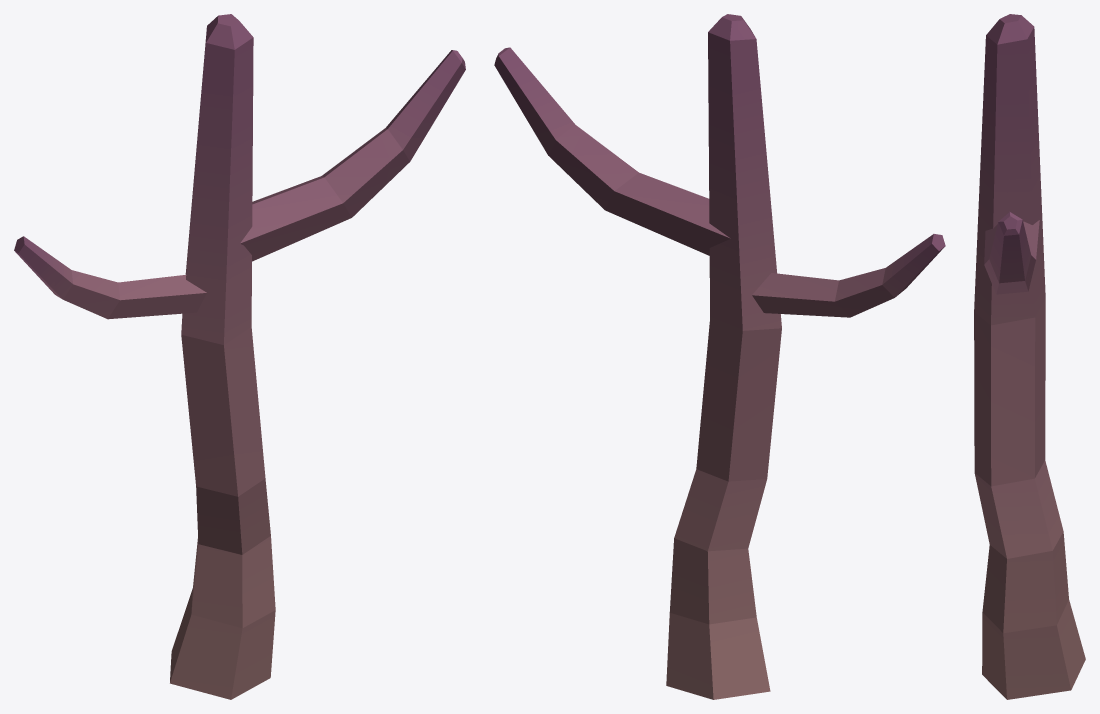
Rendered from purne_tree_2.gltf.
The picture shows the model from 3 angles, left to right: view 1: azimuth 30°, elevation 25°; view 2: azimuth 150°, elevation 25°; view 3: azimuth 270°, elevation 25°; orthographic projection.
Parts seen in each view (by area): view 1: Object_3; view 2: Object_3; view 3: Object_3.
Part boxes in pixels (x1,y1,x2,y2): Object_3: (14, 14, 465, 699); Object_3: (494, 14, 945, 699); Object_3: (974, 14, 1085, 699).
Size of the model in its own units: 9.74 by 13.89 by 2.12.
Materials: 1 (1 with a texture image).
